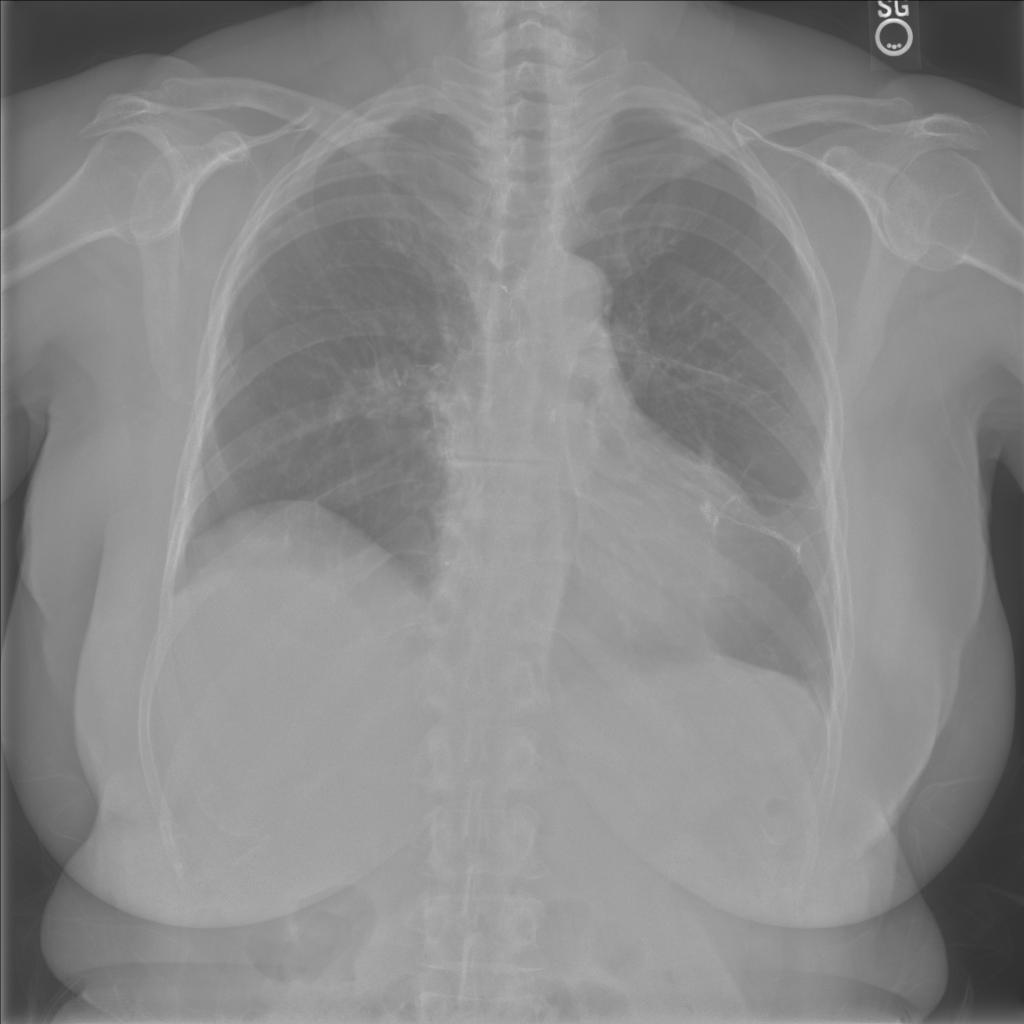Nodule: (377, 97, 404, 132), (153, 179, 186, 203)
